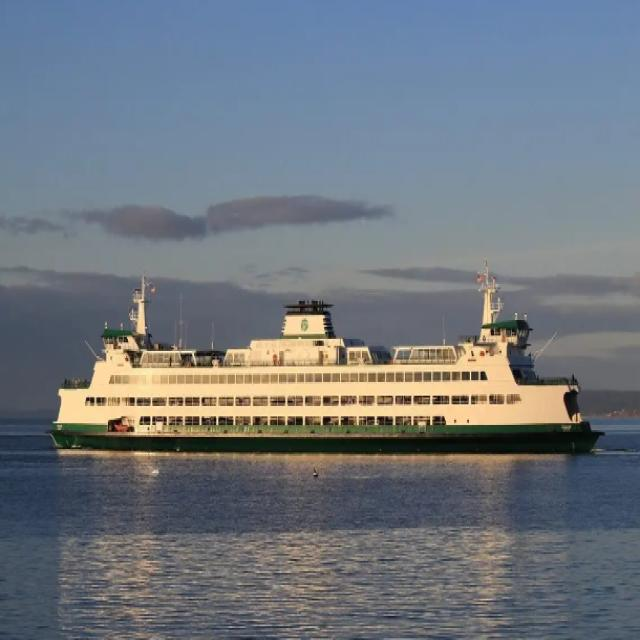passenger ship: (52, 246, 589, 476)
